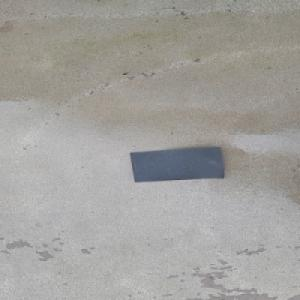PaintChip: (128, 146, 225, 183)
